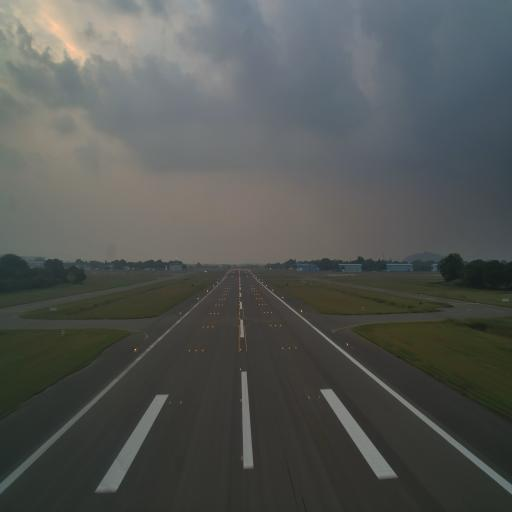on: (240, 452, 244, 462), (239, 397, 243, 404), (133, 347, 137, 354), (178, 399, 182, 406), (318, 393, 322, 400), (328, 393, 332, 400), (168, 400, 172, 406), (307, 394, 311, 400), (345, 341, 349, 347), (158, 399, 161, 406), (201, 348, 204, 354), (281, 346, 284, 352), (188, 349, 191, 353), (195, 348, 197, 353), (288, 345, 290, 350), (240, 367, 242, 371), (239, 348, 241, 352), (295, 346, 297, 350)
